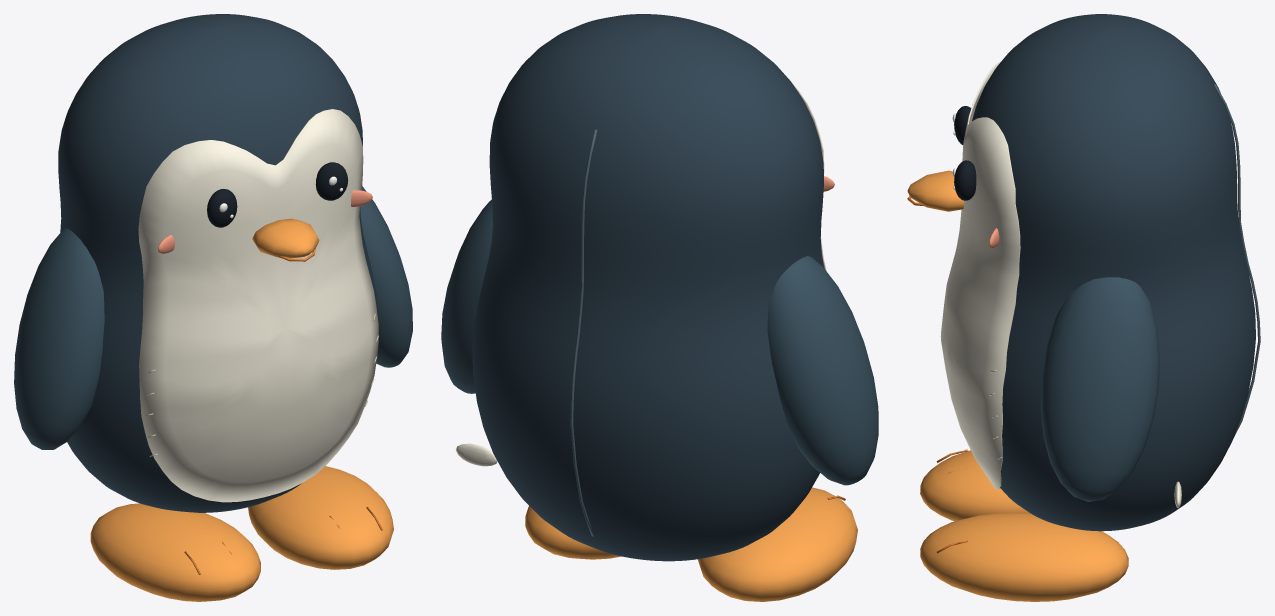
The model's file is Toy_Penguin.glb.
The picture shows the model from 3 angles, left to right: view 1: azimuth 30°, elevation 25°; view 2: azimuth 150°, elevation 25°; view 3: azimuth 270°, elevation 25°; orthographic projection. The views are drawn at different scales.
Visible parts, largest first — view 1: Penguin; view 2: Penguin; view 3: Penguin.
Part boxes in pixels (x1=…): Penguin: x1=14, y1=14, x2=412, y2=601; Penguin: x1=441, y1=14, x2=878, y2=601; Penguin: x1=907, y1=14, x2=1260, y2=601.
Size of the model in its own units: 0.4745 by 0.604 by 0.3726.
2 materials, 2 textured.
